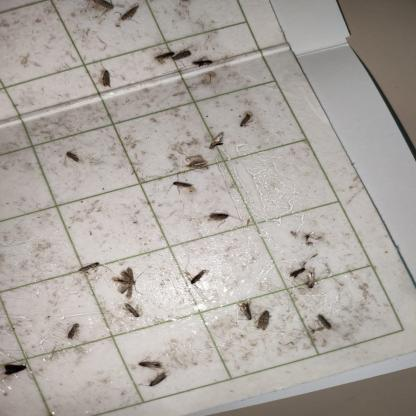prays_oleae: (116, 257, 141, 301), (190, 44, 221, 78), (60, 146, 86, 183), (207, 202, 235, 235), (98, 54, 121, 94), (80, 253, 106, 288), (0, 354, 28, 385), (145, 368, 177, 392), (120, 297, 144, 329), (166, 175, 196, 200), (61, 320, 84, 352), (187, 149, 209, 181), (137, 351, 169, 371), (174, 41, 196, 70), (117, 7, 144, 29), (254, 304, 272, 337), (311, 306, 333, 333), (235, 300, 255, 328), (208, 127, 226, 156), (190, 264, 210, 288), (152, 43, 171, 66), (239, 104, 255, 131), (93, 1, 111, 23), (289, 260, 306, 282), (304, 267, 320, 290)
